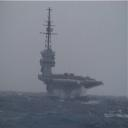Portanaves: (39, 6, 106, 107)
